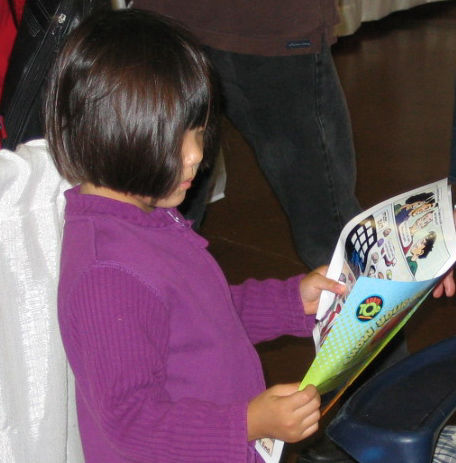person: (44, 11, 347, 463)
